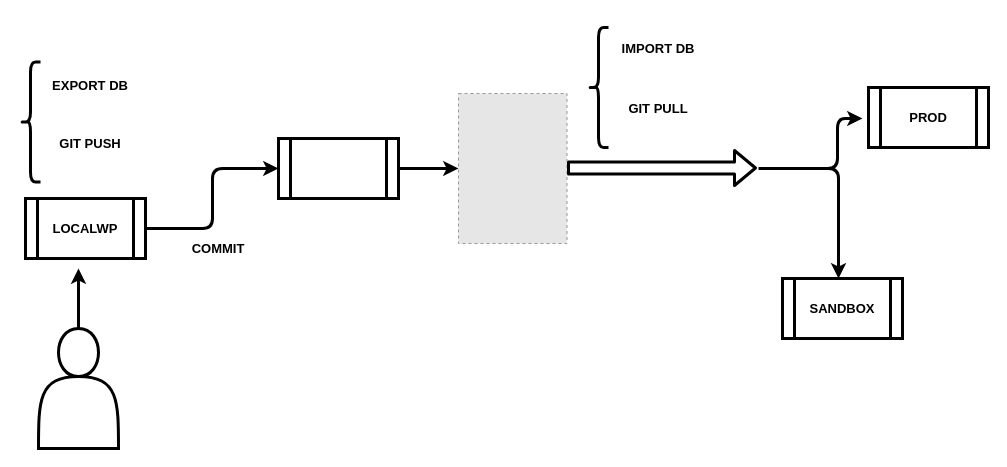
Image size: 1007x467. Some labels were removed from this diagram. Grey dashed boxes stand in for pictures. Each missing label, with the centre of its shape:
DEV: the point at 78,388
REPO: the point at 338,168
